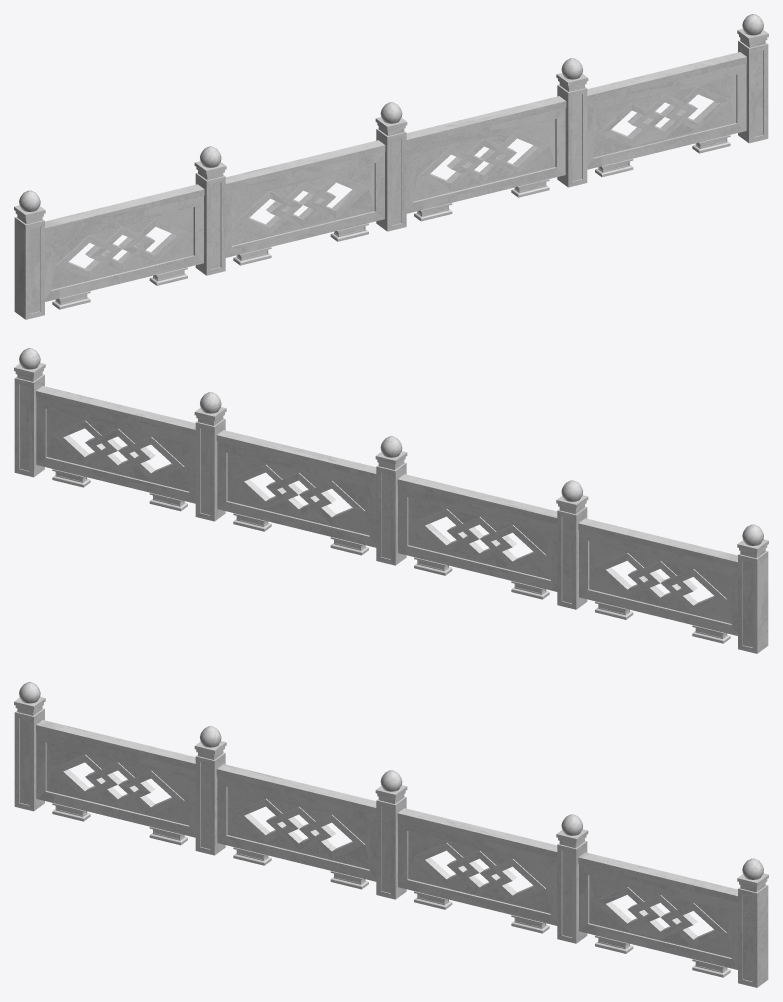
File: Fence-Marble.obj
3 views of the same model, one above another, from view 1: azimuth 30°, elevation 25°; view 2: azimuth 150°, elevation 25°; view 3: azimuth 330°, elevation 25° (orthographic).
Parts seen in each view (by area): view 1: Obj3d66-683776-3-389_网格.002; view 2: Obj3d66-683776-3-389_网格.002; view 3: Obj3d66-683776-3-389_网格.002.
Part boxes in pixels (<box>): Obj3d66-683776-3-389_网格.002: <box>14,14,768,319</box>; Obj3d66-683776-3-389_网格.002: <box>14,348,768,653</box>; Obj3d66-683776-3-389_网格.002: <box>14,682,768,987</box>.
Bounding box in the file's own units: 7.4 × 1.16 × 0.2.
1 material, 1 textured.
